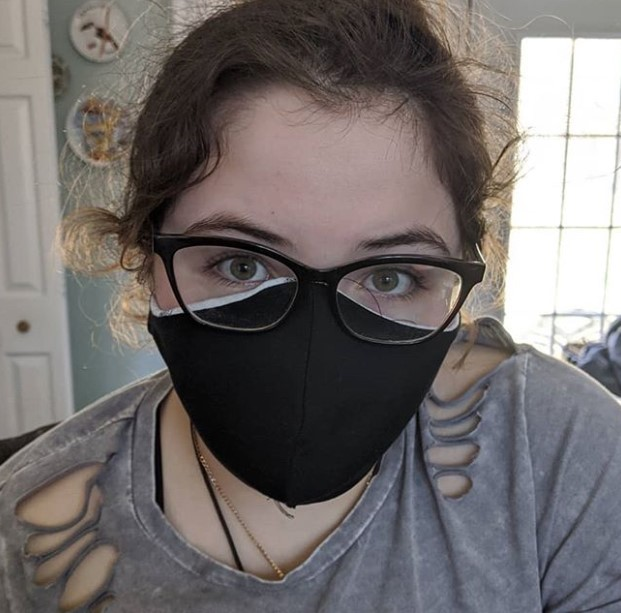face_with_mask: (134, 16, 497, 499)
